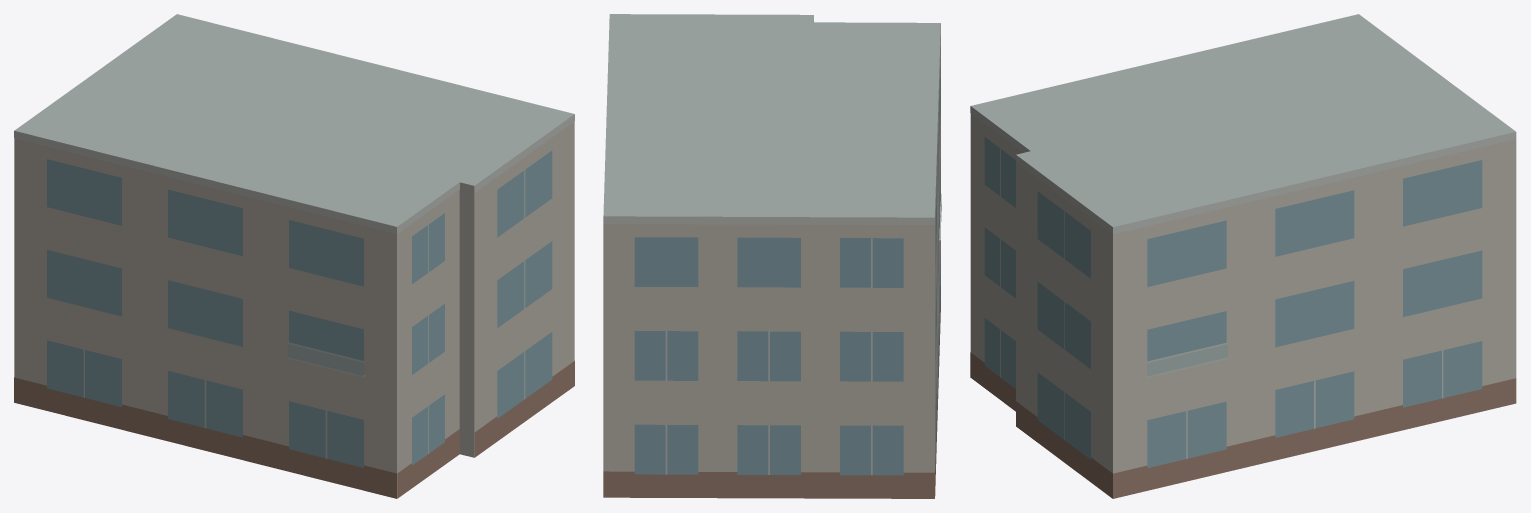
File: survey-upis-32811108.glb
3 views of the same model, side by side, from view 1: azimuth 30°, elevation 25°; view 2: azimuth 150°, elevation 25°; view 3: azimuth 270°, elevation 25° (orthographic). The views are drawn at different scales.
Visible parts, largest first — view 1: survey-upis-32811108.tmp; view 2: survey-upis-32811108.tmp; view 3: survey-upis-32811108.tmp.
Part boxes in pixels (x1,y1,x2,y2): survey-upis-32811108.tmp: [14, 14, 574, 498]; survey-upis-32811108.tmp: [603, 14, 941, 498]; survey-upis-32811108.tmp: [970, 14, 1516, 498].
Bounding box in the file's own units: 15.42 × 9.15 × 16.67.
